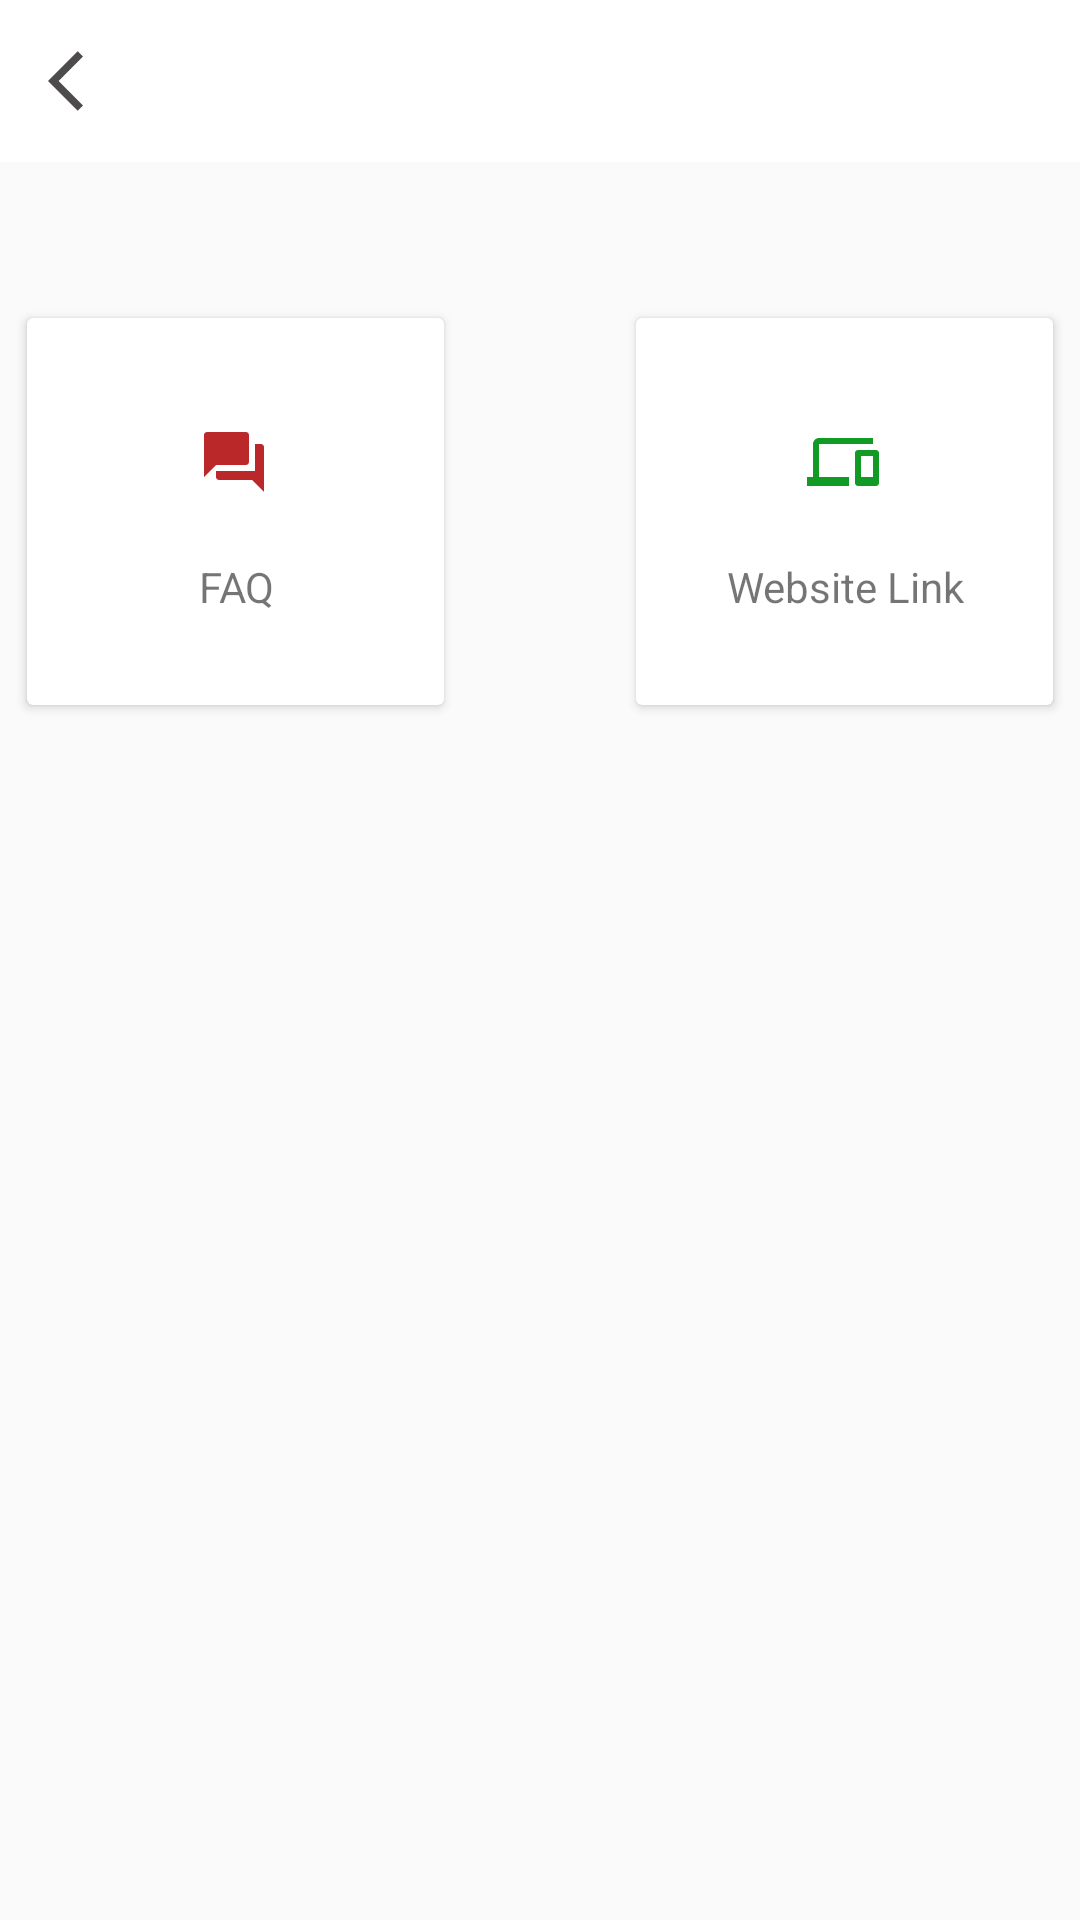

Point at icon controls on the screen. Image size 1080×1920, points as point (x, y).
phonelink: point (843, 462)
question answer: point (234, 462)
